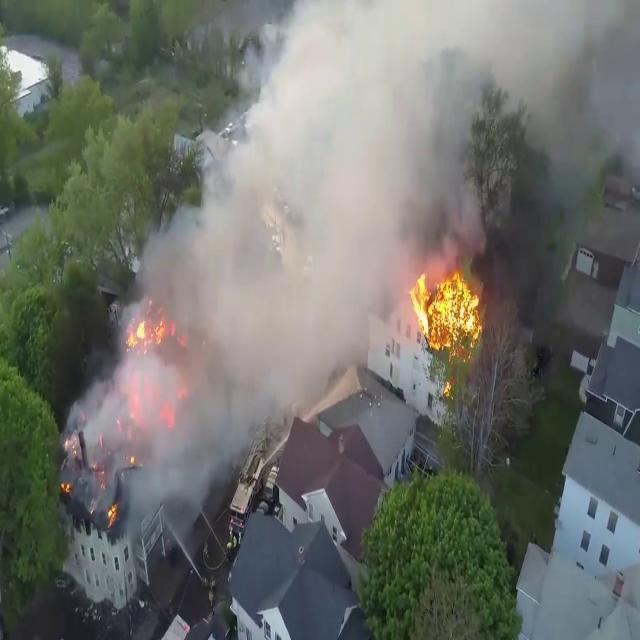Fire: (406, 257, 486, 359), (128, 309, 170, 351), (105, 498, 118, 534)
Smoke: (82, 2, 450, 492)
